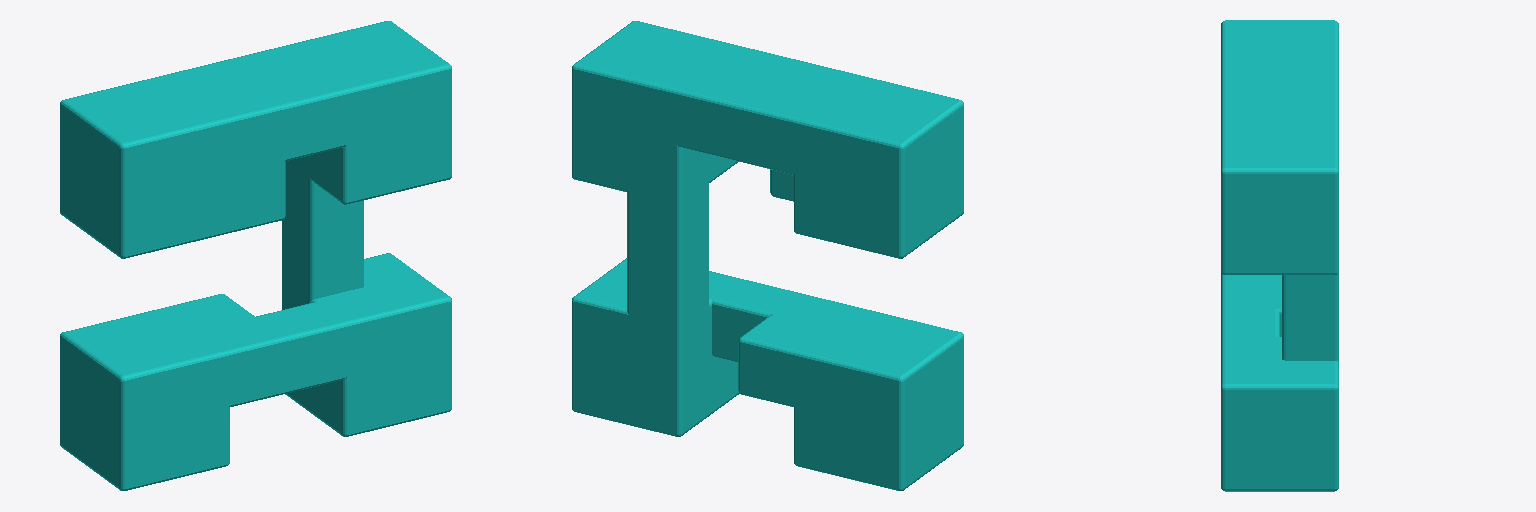
robot.urdf — obj_1:
<robot name="obj_1" version="1.0">
  <link name="link_piece_1">
    <collision name="piece_1-collision.001">
      <origin rpy="1.57080 -0.00000 3.14159" xyz="-0.10765 0.37475 0.08861"/>
      <geometry>
        <mesh filename="../meshes/obj/piece_1-collision.001.obj" scale="2.12910 2.12910 2.12910"/>
      </geometry>
    </collision>
    <collision name="piece_1-collision.002">
      <origin rpy="1.57080 -0.00000 3.14159" xyz="-0.15442 0.42164 0.26914"/>
      <geometry>
        <mesh filename="../meshes/obj/piece_1-collision.002.obj" scale="2.12910 2.12395 2.12910"/>
      </geometry>
    </collision>
    <collision name="piece_1-collision.003">
      <origin rpy="1.57080 -0.00000 3.14159" xyz="-0.09312 0.37150 0.41004"/>
      <geometry>
        <mesh filename="../meshes/obj/piece_1-collision.003.obj" scale="2.12910 2.12910 2.12910"/>
      </geometry>
    </collision>
    <collision name="piece_1-collision.004">
      <origin rpy="1.57080 -0.00000 3.14159" xyz="-0.40681 0.37395 0.47835"/>
      <geometry>
        <mesh filename="../meshes/obj/piece_1-collision.004.obj" scale="2.12910 2.12910 2.12910"/>
      </geometry>
    </collision>
    <collision name="piece_1-collision.005">
      <origin rpy="1.57080 -0.00000 3.14159" xyz="-0.45859 0.37524 0.07138"/>
      <geometry>
        <mesh filename="../meshes/obj/piece_1-collision.005.obj" scale="2.12910 2.12910 2.12910"/>
      </geometry>
    </collision>
    <collision name="piece_1-collision.006">
      <origin rpy="1.57080 -0.00000 3.14159" xyz="-0.24466 0.33192 0.13533"/>
      <geometry>
        <mesh filename="../meshes/obj/piece_1-collision.006.obj" scale="2.12909 2.08429 2.12910"/>
      </geometry>
    </collision>
    <collision name="piece_1-collision.007">
      <origin rpy="1.57080 -0.00000 3.14159" xyz="-0.30479 0.33265 0.36327"/>
      <geometry>
        <mesh filename="../meshes/obj/piece_1-collision.007.obj" scale="2.12910 2.12910 2.12910"/>
      </geometry>
    </collision>
    <collision name="piece_1-collision.008">
      <origin rpy="1.57080 -0.00000 3.14159" xyz="-0.29893 0.39691 0.13261"/>
      <geometry>
        <mesh filename="../meshes/obj/piece_1-collision.008.obj" scale="2.12910 2.08429 2.12910"/>
      </geometry>
    </collision>
    <collision name="piece_1-collision.009">
      <origin rpy="1.57080 -0.00000 3.14159" xyz="-0.45318 0.38958 0.36571"/>
      <geometry>
        <mesh filename="../meshes/obj/piece_1-collision.009.obj" scale="2.12910 2.12910 2.12910"/>
      </geometry>
    </collision>
    <inertial>
      <inertia ixx="0.00203" ixy="0.00001" ixz="-0.00000" iyy="0.00122" iyz="0.00001" izz="0.00099"/>
      <origin rpy="0.00000 0.00000 0.00000" xyz="-0.27329 0.37436 0.27306"/>
      <mass value="0.01000"/>
    </inertial>
    <visual name="piece_1">
      <material name="Piece"/>
      <origin rpy="1.57080 -0.00000 3.14159" xyz="-0.27054 0.37834 0.22845"/>
      <geometry>
        <mesh filename="../meshes/obj/threePlates_14m.obj" scale="0.01065 0.01065 0.01065"/>
      </geometry>
    </visual>
  </link>
  <material name="Piece">
    <color rgba="0.15294 0.80000 0.78039 1.00000"/>
  </material>
</robot>

--- Render facts (derived) ---
3 views of the same robot in one strip: view 1: azimuth 30°, elevation 25°; view 2: azimuth 150°, elevation 25°; view 3: azimuth 270°, elevation 25° (orthographic).
Robot: obj_1 — 1 links, 0 joints (none); root link link_piece_1; default pose: all joints at 0.
Visible links, largest first — view 1: link_piece_1; view 2: link_piece_1; view 3: link_piece_1.
Boxes of the visible links, x1,y1,x2,y2 form: link_piece_1: [60, 21, 451, 490]; link_piece_1: [572, 21, 963, 490]; link_piece_1: [1221, 20, 1338, 491].
Bounding box of the posed robot: 0.5101 × 0.169 × 0.5098 m (x, y, z).
Meshes: 1 distinct files referenced, 1 mesh visuals loaded (1 OBJ).